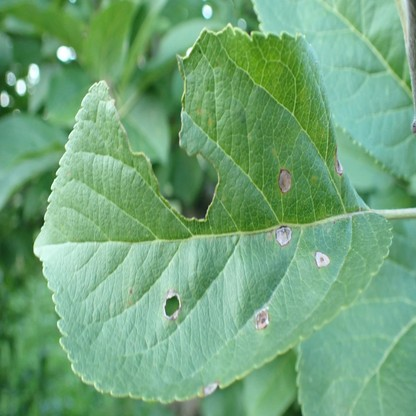frogeye_leaf_spot: (162, 289, 181, 319), (254, 307, 269, 330), (276, 226, 292, 246), (279, 169, 291, 194), (314, 250, 330, 268), (335, 145, 343, 175), (204, 381, 218, 395)
